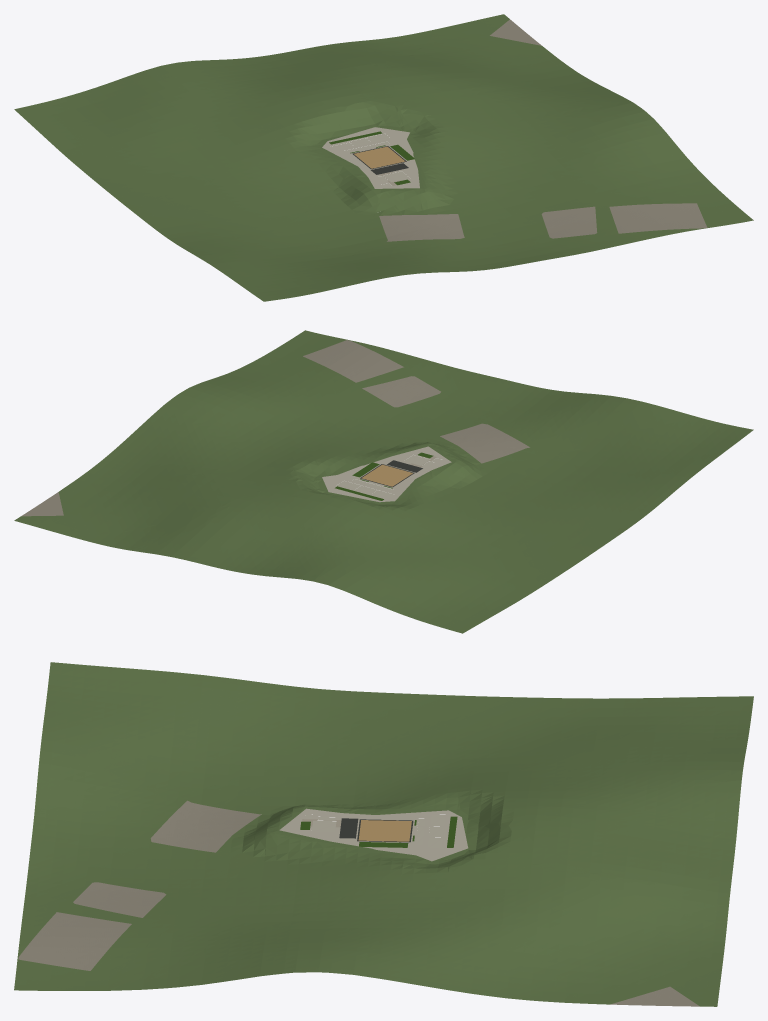
3 renders of one model, top to bottom at view 1: azimuth 30°, elevation 25°; view 2: azimuth 150°, elevation 25°; view 3: azimuth 270°, elevation 25°, orthographic. The views are drawn at different scales.
Visible parts, largest first — view 1: ground_context-estimated, surface_school-paved-walk, surface_sports-field; view 2: ground_context-estimated, surface_school-paved-walk; view 3: ground_context-estimated, surface_school-paved-walk, surface_sports-field.
Part boxes in pixels (box(x1,y1,x2,y2)): ground_context-estimated: box(14, 14, 753, 301); surface_school-paved-walk: box(322, 127, 419, 188); surface_sports-field: box(357, 148, 401, 167); ground_context-estimated: box(14, 330, 753, 633); surface_school-paved-walk: box(322, 446, 451, 502); ground_context-estimated: box(14, 662, 753, 1006); surface_school-paved-walk: box(279, 808, 468, 861); surface_sports-field: box(361, 821, 408, 840).
Bounding box in the file's own units: 756 × 38.59 × 756.
7 materials, 7 textured.
